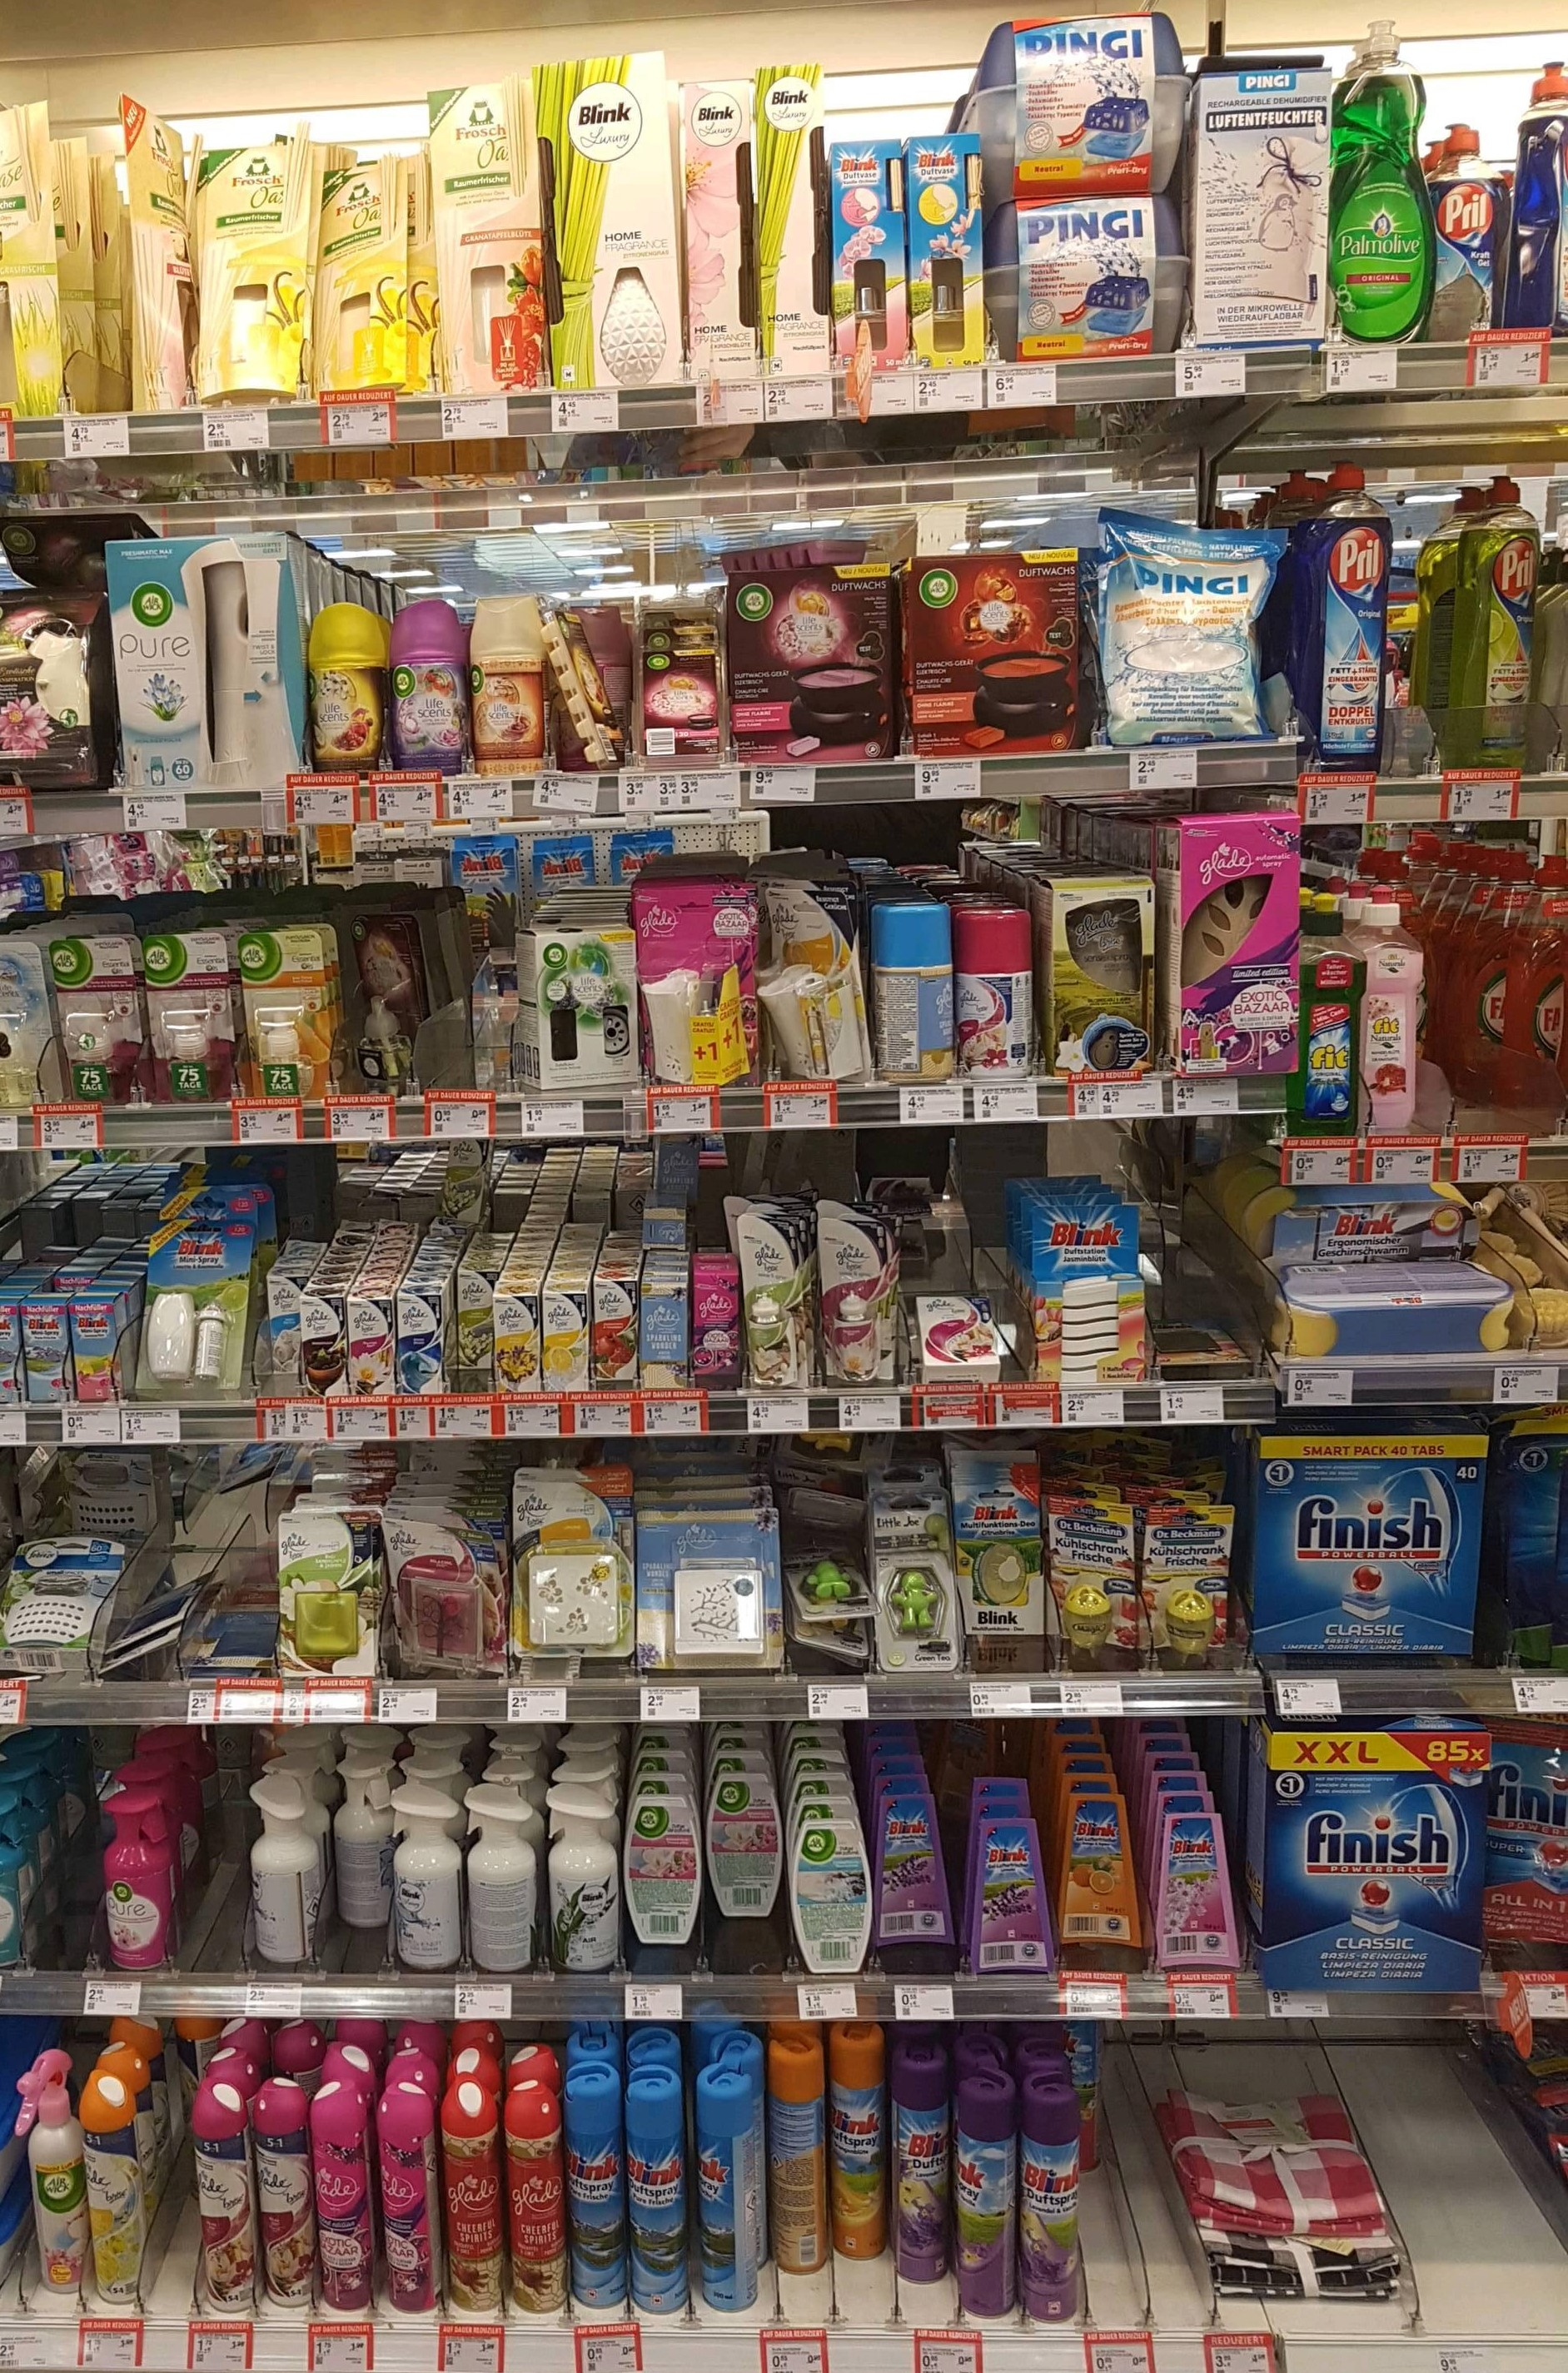empty: (1106, 2032, 1183, 2322), (1395, 2040, 1459, 2322), (1395, 513, 1452, 768), (457, 880, 507, 1085), (198, 1754, 241, 1964), (63, 1745, 94, 1960)
misalignment: (782, 1454, 878, 1669), (352, 896, 423, 1102), (332, 1754, 399, 1932)
